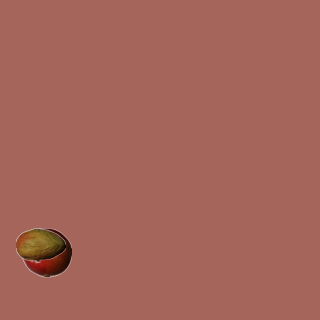Apple Braeburn: (21, 227, 71, 277)
Papaya: (15, 220, 65, 270)
